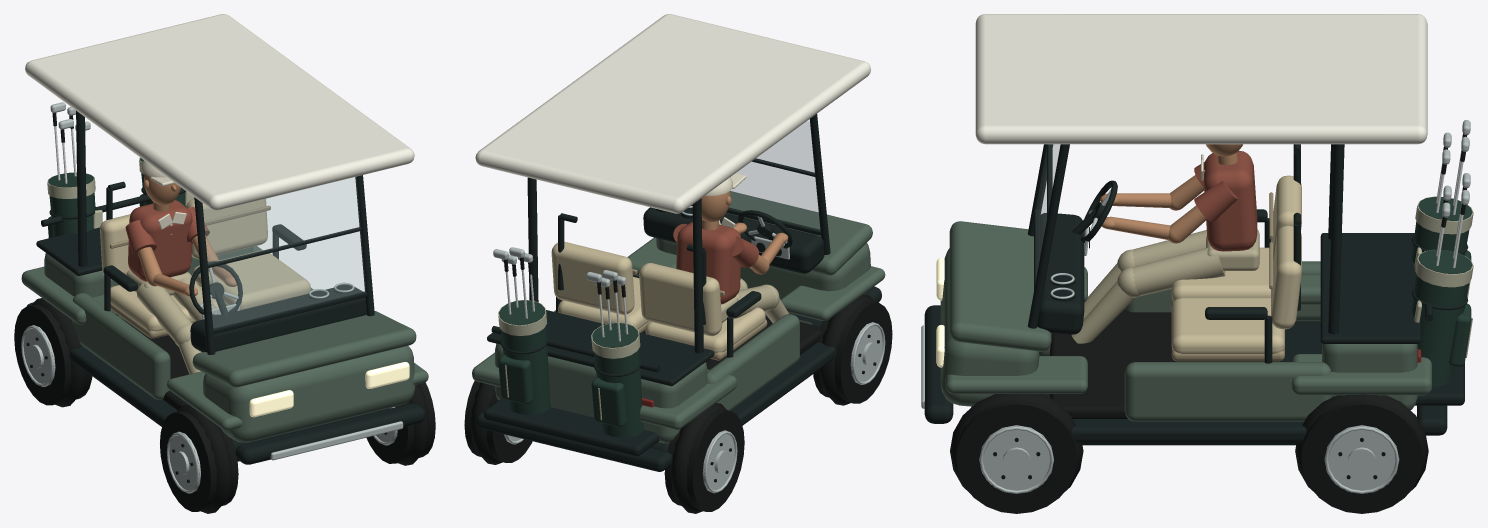
The model's file is golf-cart.glb.
3 renders of one model, left to right at view 1: azimuth 30°, elevation 25°; view 2: azimuth 150°, elevation 25°; view 3: azimuth 270°, elevation 25°, orthographic. The views are drawn at different scales.
Parts seen in each view (by area): view 1: CartDetail (×18), PaintedBody, DriverPolo; view 2: CartDetail (×17), PaintedBody, DriverPolo; view 3: CartDetail (×17), PaintedBody, DriverPolo.
Part boxes in pixels (x1,y1,x2,y2): CartDetail (×18): (14,14,435,513); PaintedBody: (21,246,428,442); DriverPolo: (125,200,209,281); CartDetail (×17): (464,14,892,513); PaintedBody: (472,191,885,443); DriverPolo: (673,222,758,304); CartDetail (×17): (921,14,1473,513); PaintedBody: (940,221,1431,421); DriverPolo: (1194,150,1257,251).
Size of the model in its own units: 1.44 by 1.9 by 2.48.
